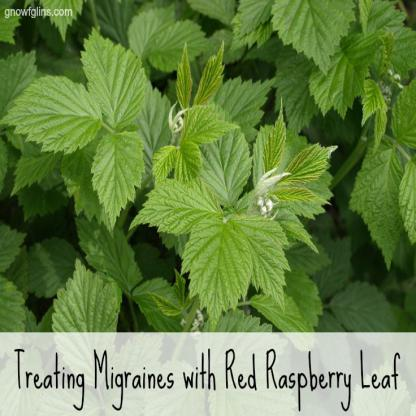Raspberry leaf: (180, 213, 292, 322), (3, 67, 104, 163), (78, 26, 150, 136), (125, 174, 229, 241), (92, 133, 146, 231), (262, 93, 288, 179), (282, 142, 339, 179), (270, 182, 329, 212)
